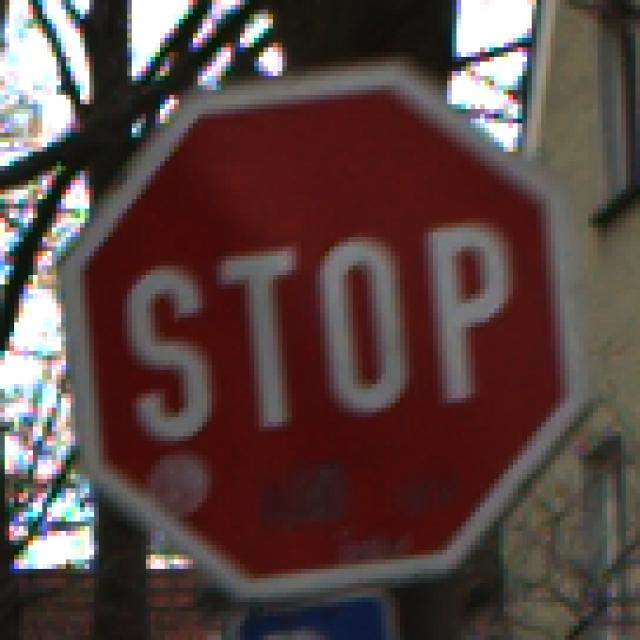STOP: (53, 58, 585, 584)
